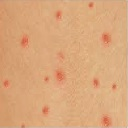Chickenpox: (17, 15, 117, 124)
